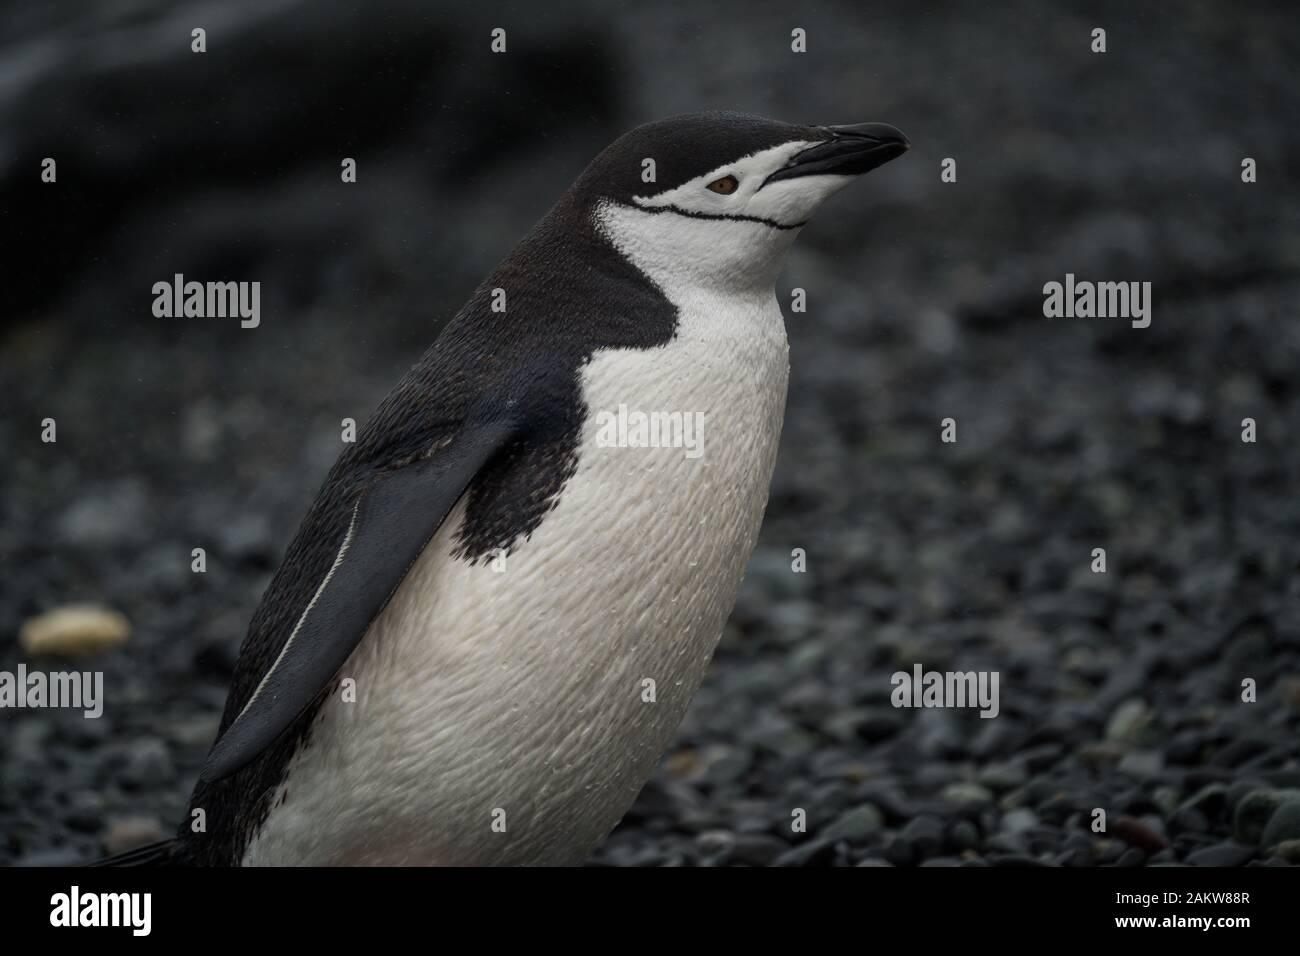chinstrap: (119, 96, 963, 869)
